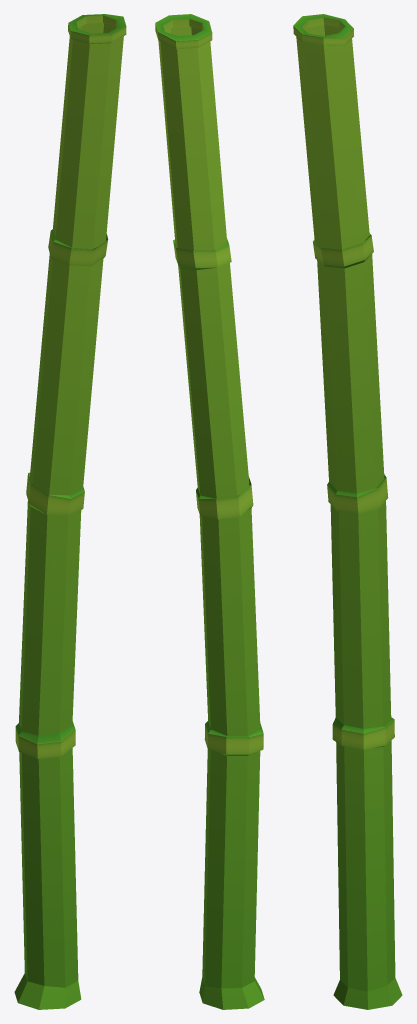
File: bamboo.glb
3 views of the same model, side by side, from view 1: azimuth 30°, elevation 25°; view 2: azimuth 210°, elevation 25°; view 3: azimuth 270°, elevation 25° (orthographic). The views are drawn at different scales.
Visible parts, largest first — view 1: Bamboo.003; view 2: Bamboo.003; view 3: Bamboo.003.
Boxes of the visible parts, x1=… form: Bamboo.003: x1=14, y1=14, x2=126, y2=1009; Bamboo.003: x1=155, y1=14, x2=264, y2=1009; Bamboo.003: x1=293, y1=14, x2=402, y2=1009.
Size of the model in its own units: 0.4628 by 5.12 by 0.5153.
Materials: 1 (1 with a texture image).
